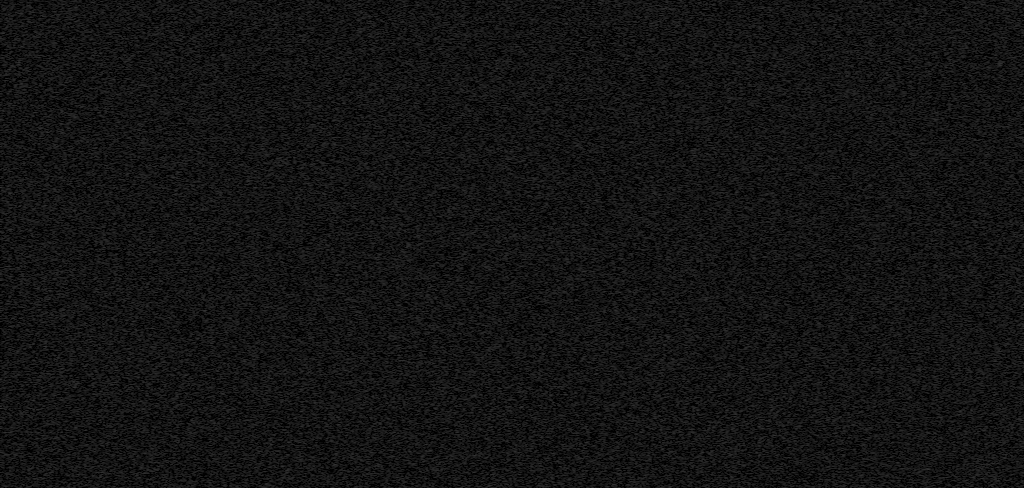wv_am: (784, 0, 801, 488), (88, 0, 93, 487)
wv_cw: (51, 0, 57, 487), (59, 0, 64, 487)
wv_lsb: (203, 225, 209, 434), (203, 64, 209, 120), (204, 134, 208, 192), (204, 435, 208, 487), (204, 8, 208, 48), (204, 193, 208, 209), (204, 210, 208, 224), (204, 121, 208, 133), (204, 3, 208, 7), (204, 53, 208, 57), (204, 49, 208, 52)
wv_usb: (50, 343, 55, 435), (50, 260, 55, 342), (50, 66, 55, 142), (50, 203, 55, 259), (50, 436, 55, 487), (50, 19, 55, 65), (50, 170, 55, 202), (50, 143, 55, 169), (50, 4, 55, 9), (50, 14, 54, 18), (50, 10, 54, 13)
wv_wbfm: (805, 0, 826, 488)
